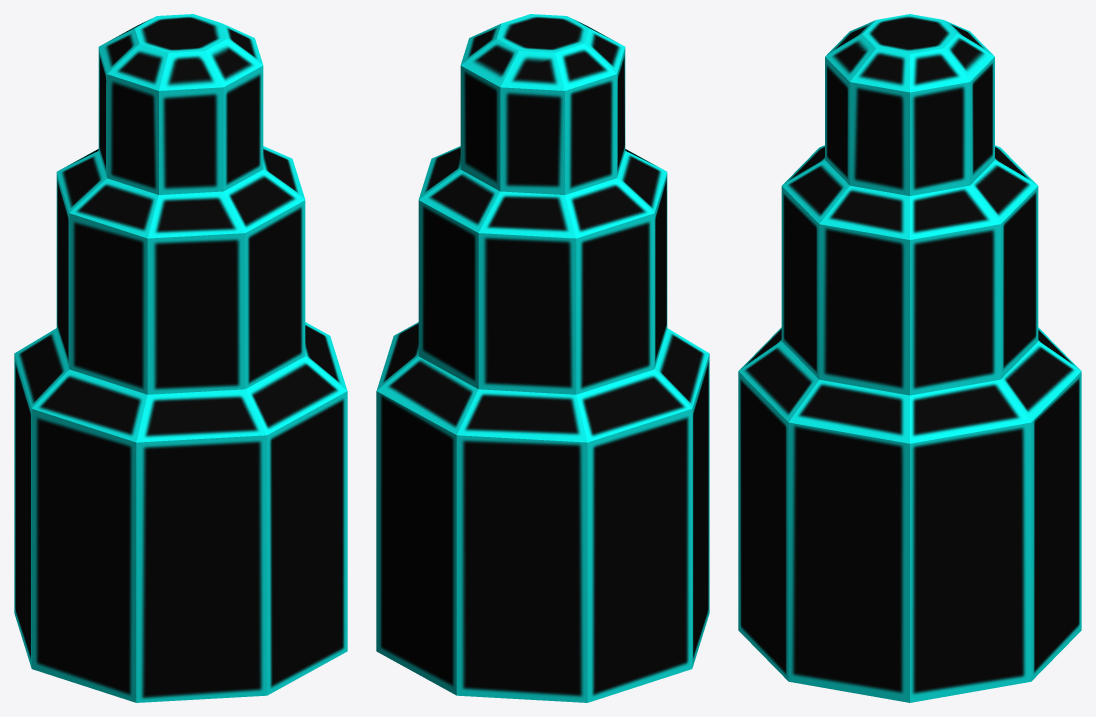
The model's file is SM_City05.fbx.
The picture shows the model from 3 angles, left to right: view 1: azimuth 30°, elevation 25°; view 2: azimuth 150°, elevation 25°; view 3: azimuth 270°, elevation 25°; orthographic projection.
Parts seen in each view (by area): view 1: SM_City05; view 2: SM_City05; view 3: SM_City05.
Boxes of the visible parts, x1=… form: SM_City05: x1=14, y1=14, x2=347, y2=702; SM_City05: x1=376, y1=14, x2=709, y2=702; SM_City05: x1=738, y1=14, x2=1081, y2=702.
Size of the model in its own units: 600 by 1150 by 600.
1 material, 1 textured.
